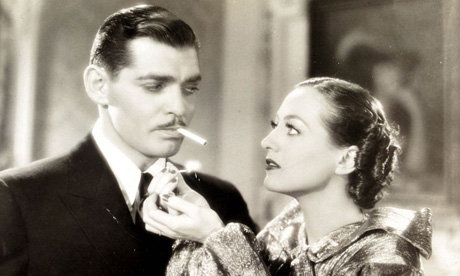cigarette: (165, 119, 222, 154)
